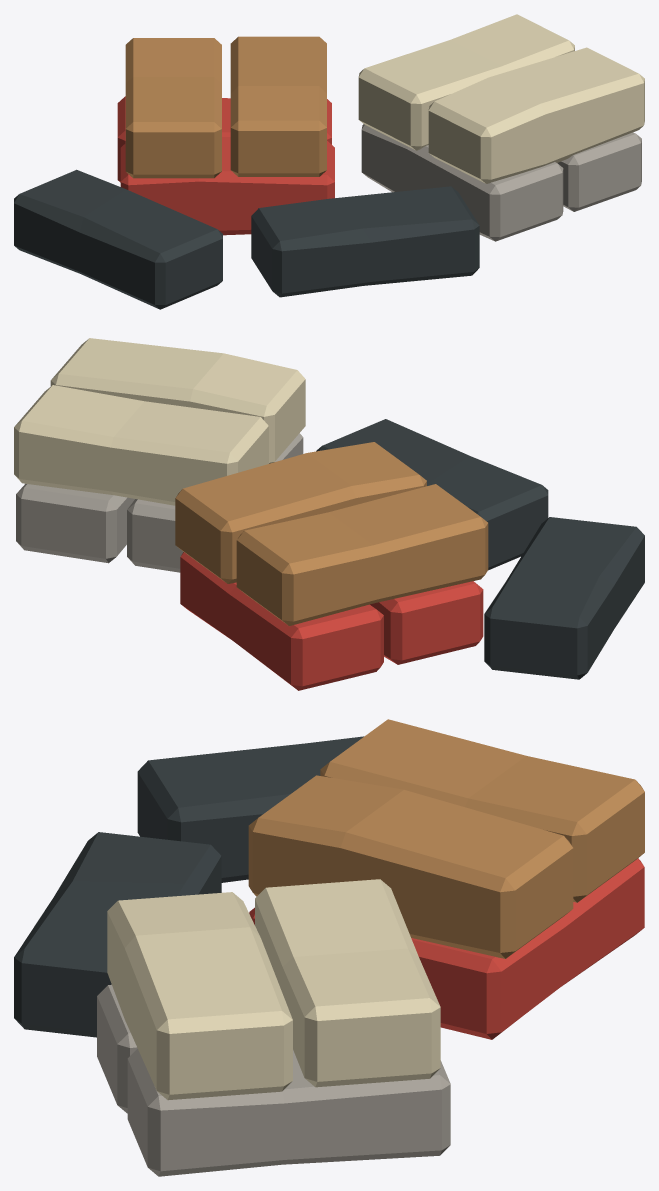
File: brick_b_340.gltf
3 renders of one model, top to bottom at view 1: azimuth 30°, elevation 25°; view 2: azimuth 150°, elevation 25°; view 3: azimuth 270°, elevation 25°, orthographic. The views are drawn at different scales.
Parts seen in each view (by area): view 1: brick_b004; view 2: brick_b004; view 3: brick_b004.
Part boxes in pixels (x1=…): brick_b004: x1=14, y1=14, x2=644, y2=309; brick_b004: x1=14, y1=338, x2=644, y2=690; brick_b004: x1=14, y1=719, x2=644, y2=1176.
Bounding box in the file's own units: 1.04 × 0.2234 × 0.728.
Materials: 1 (1 with a texture image).
